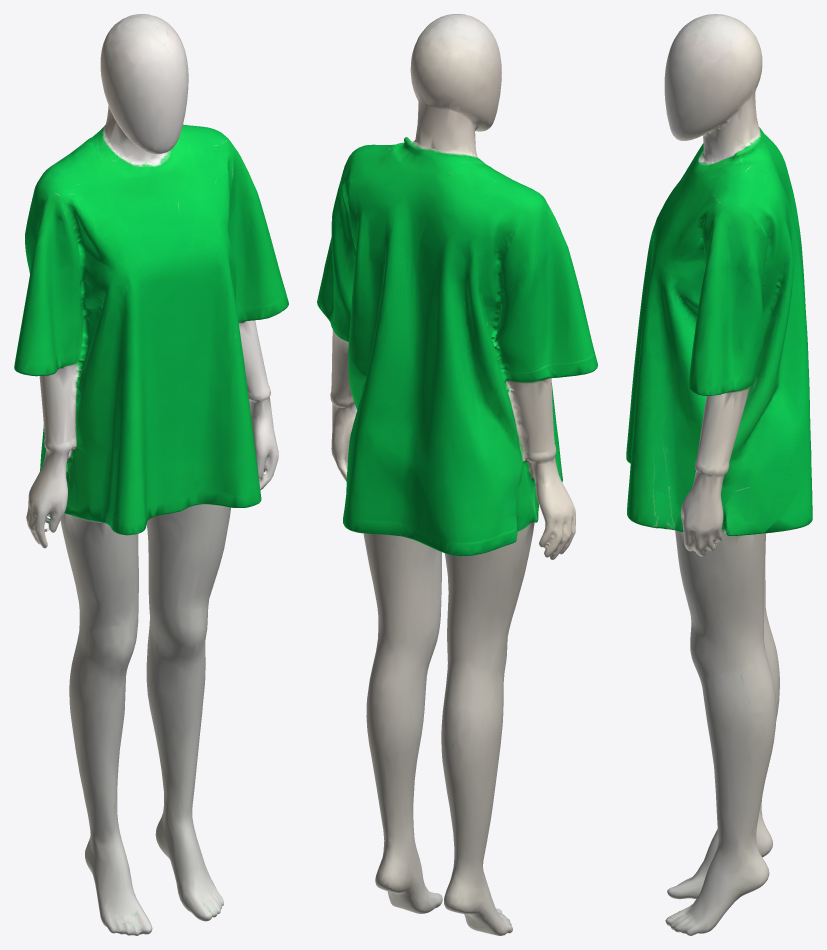
Rendered from avatar-tee-female.glb.
The picture shows the model from 3 angles, left to right: view 1: azimuth 30°, elevation 25°; view 2: azimuth 150°, elevation 25°; view 3: azimuth 270°, elevation 25°; orthographic projection. The views are drawn at different scales.
Parts seen in each view (by area): view 1: Mesh_0; view 2: Mesh_0; view 3: Mesh_0.
Boxes of the visible parts, box(x1,y1,x2,y2) form: Mesh_0: box(14, 14, 288, 935); Mesh_0: box(317, 14, 597, 935); Mesh_0: box(626, 14, 812, 935).
Size of the model in its own units: 0.6011 by 1.9 by 0.3611.
Materials: 1 (1 with a texture image).
